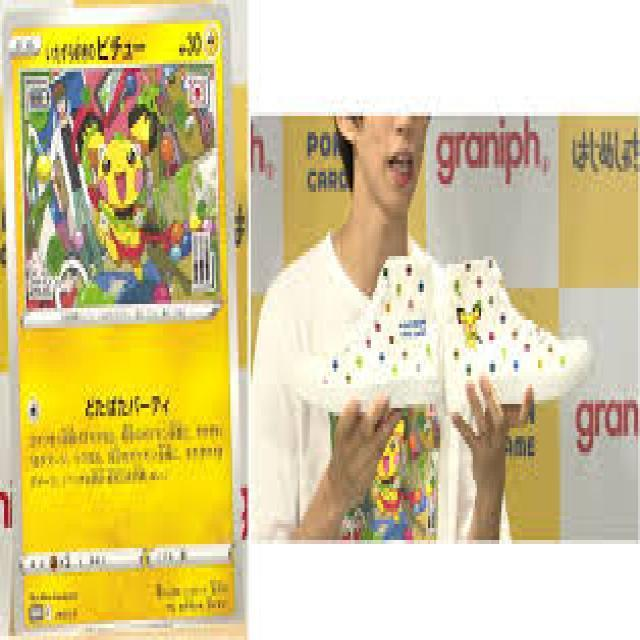pichu: (71, 90, 169, 278)
